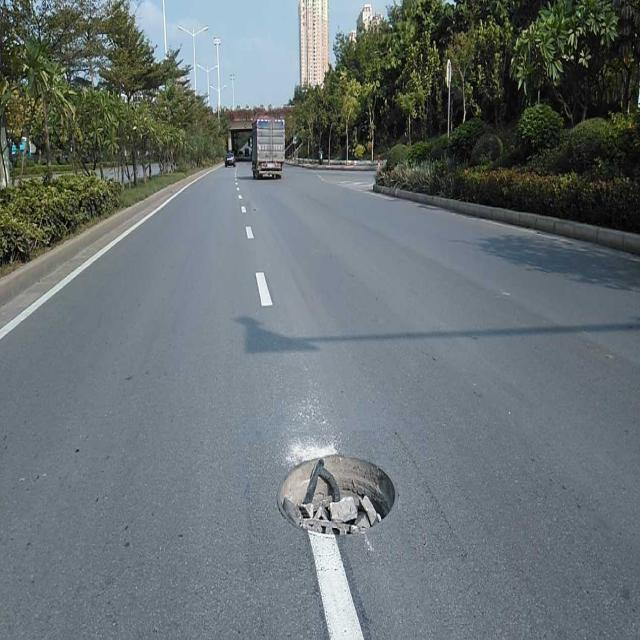manhole: (278, 454, 395, 534)
